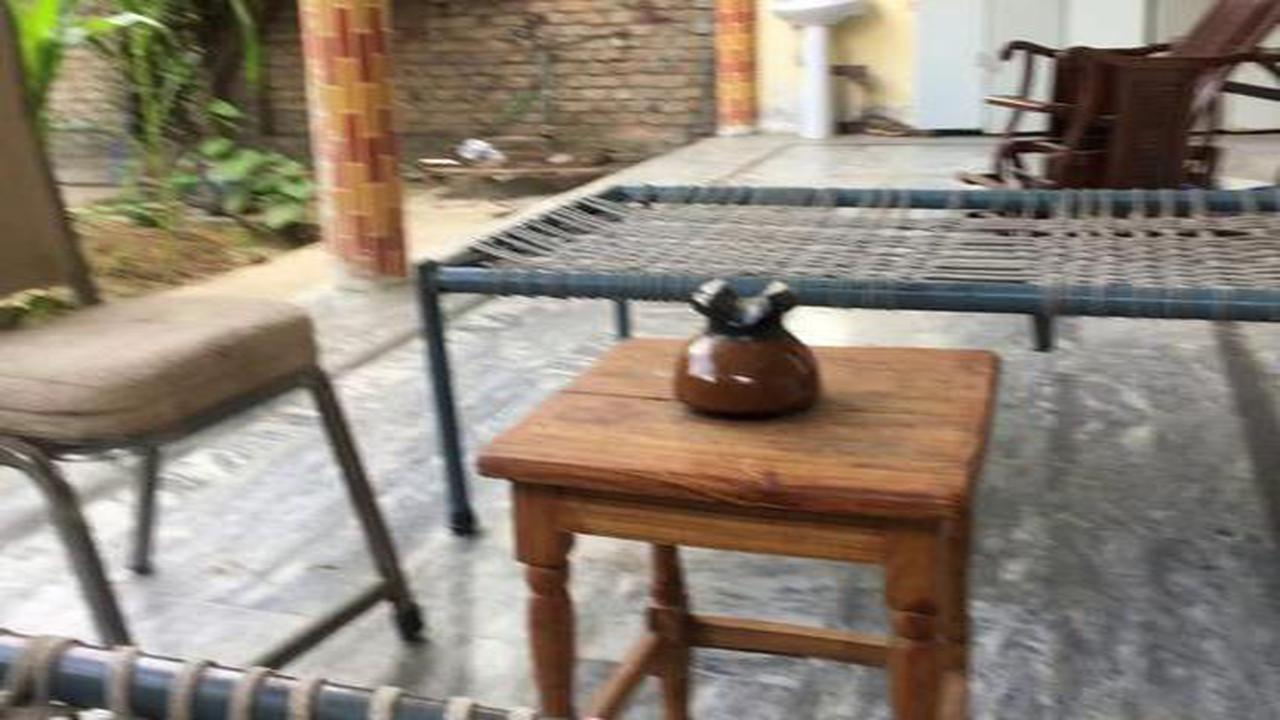insulator_pin: (653, 267, 856, 426)
